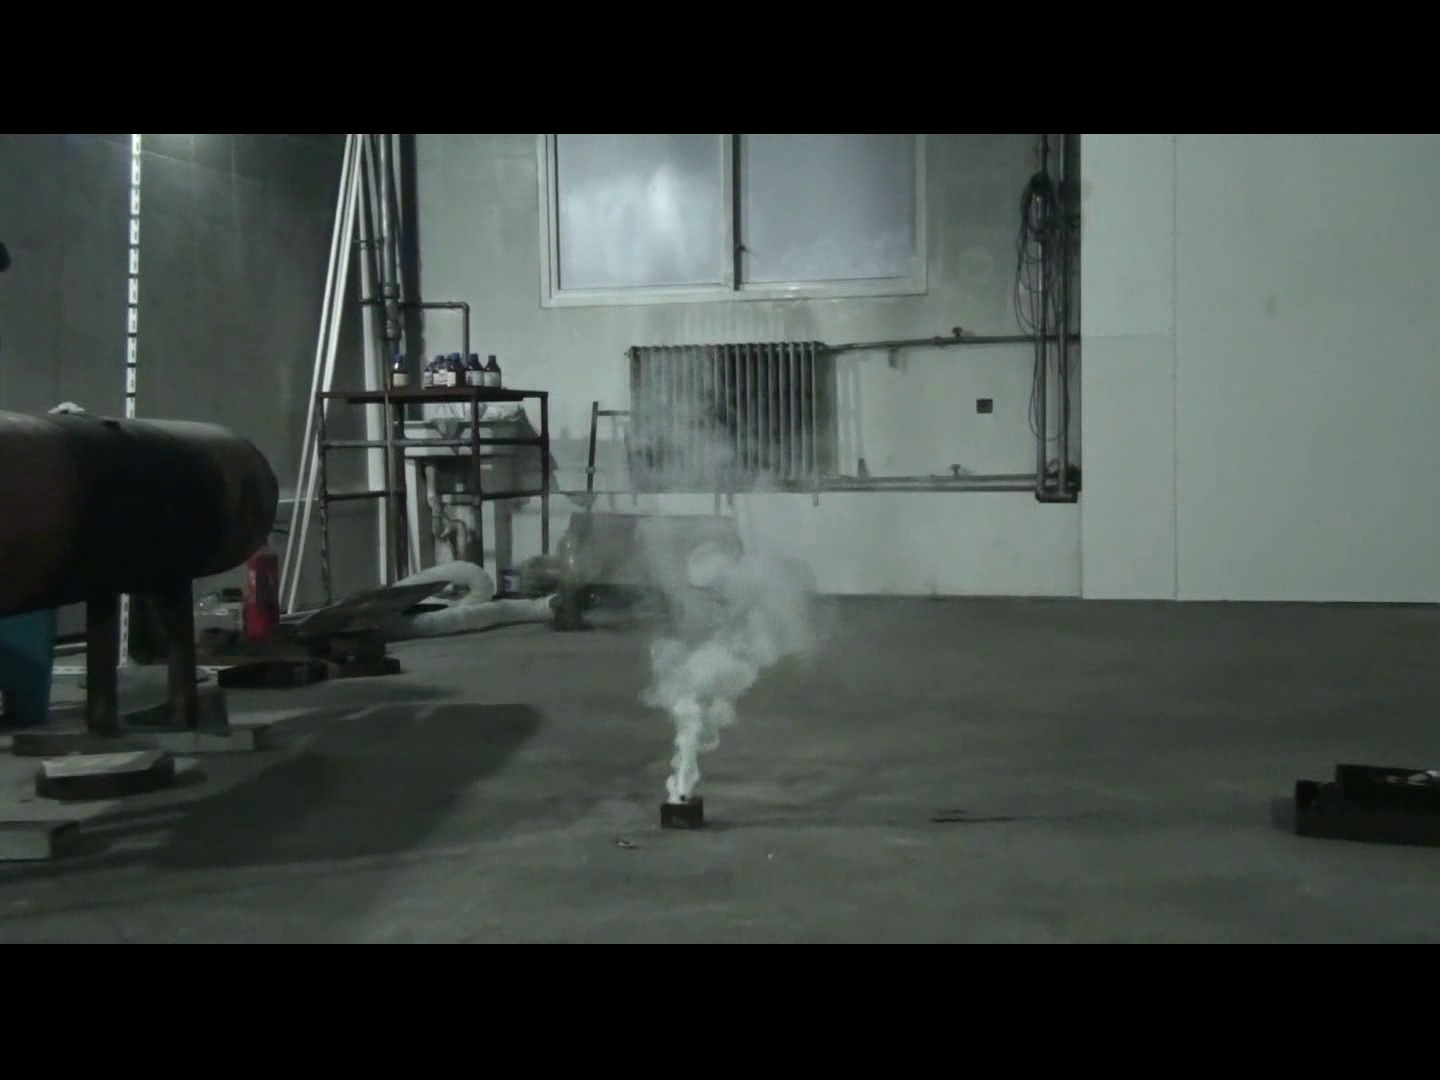smoke: (565, 344, 832, 794)
